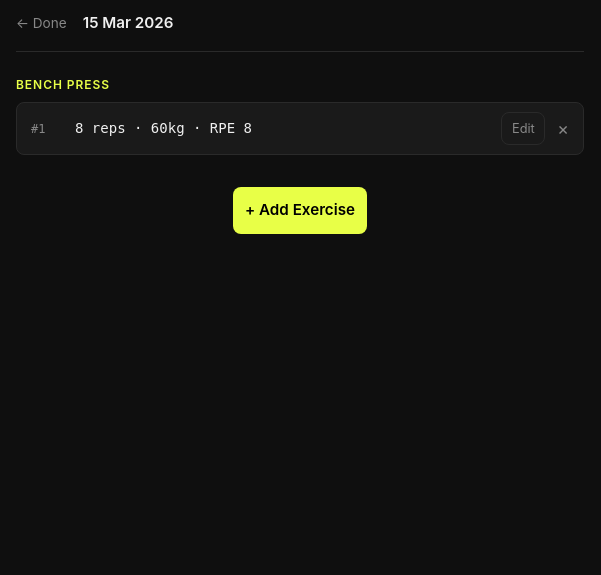
it: LogSession — editing a set › Cancel leaves the set untouched
Click the button "Edit" at (523, 129), box x1=501 y1=112 x2=545 y2=145
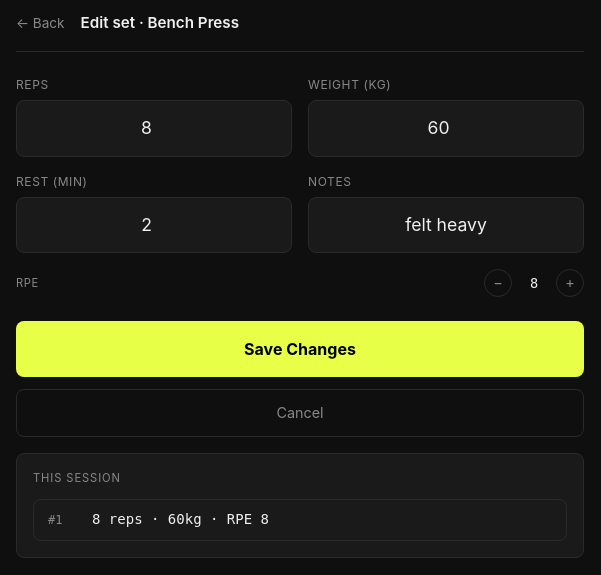
Click the button "Cancel" at (300, 413), box x1=16 y1=389 x2=584 y2=437
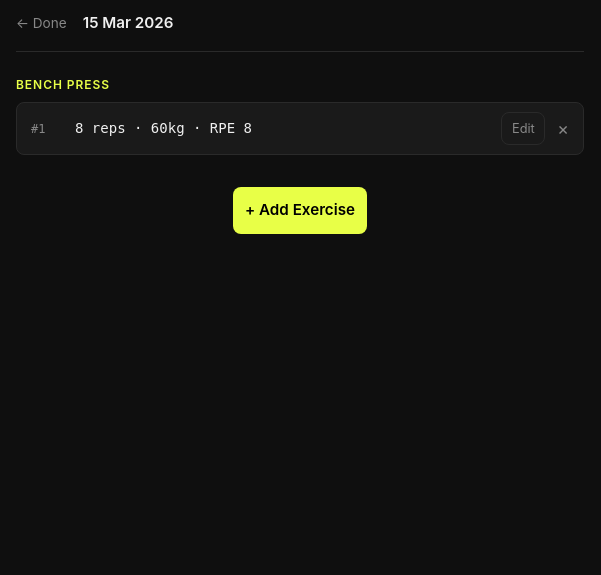
Result: the button "+ Add Exercise" is shown at x1=233 y1=187 x2=367 y2=234
